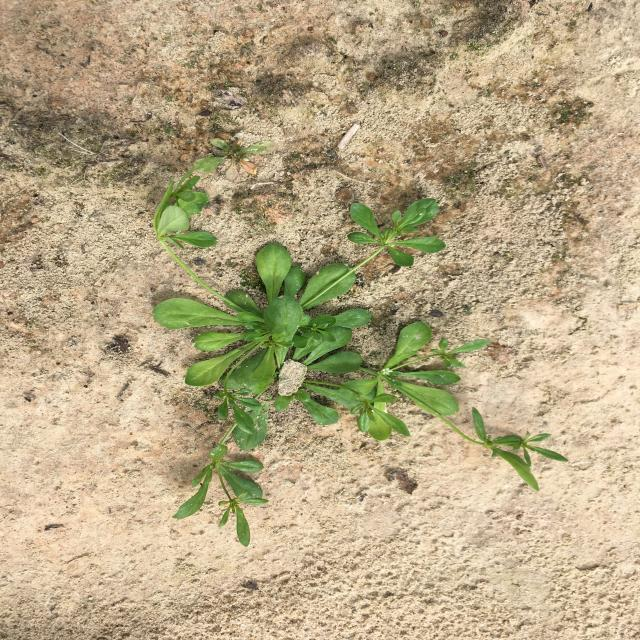Carpetweed: (152, 176, 569, 546), (194, 138, 278, 181)
